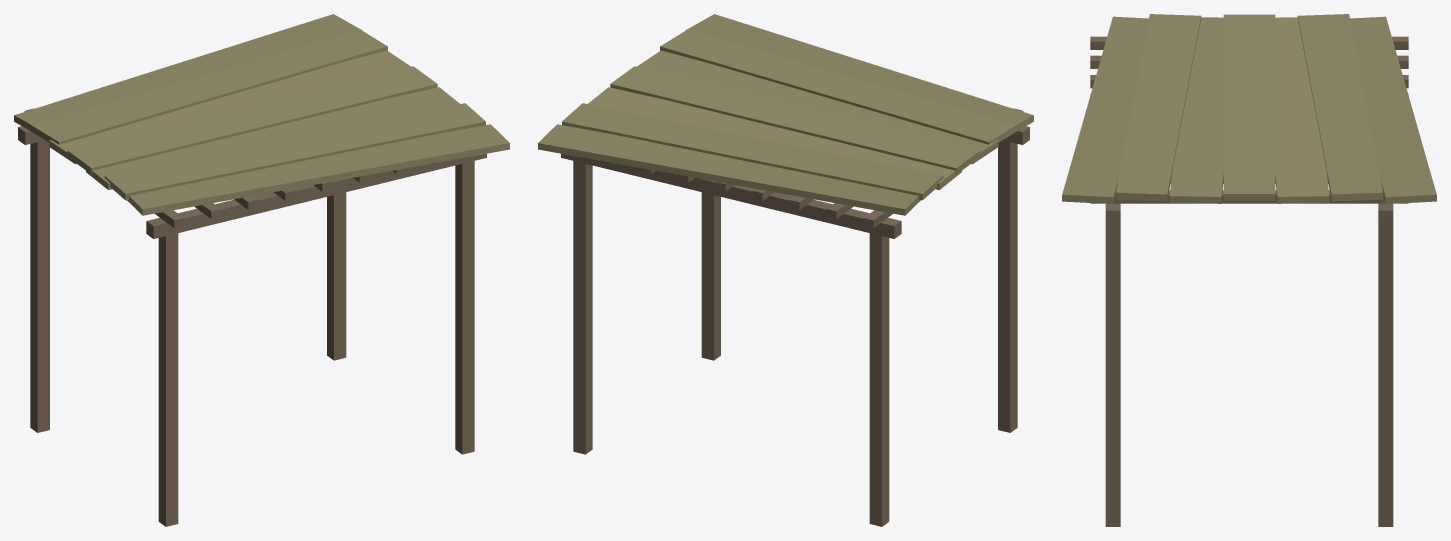
Rendered from adb_shade.glb.
3 renders of one model, left to right at view 1: azimuth 30°, elevation 25°; view 2: azimuth 150°, elevation 25°; view 3: azimuth 270°, elevation 25°, orthographic. The views are drawn at different scales.
Visible parts, largest first — view 1: adb_shade; view 2: adb_shade; view 3: adb_shade.
Part boxes in pixels (x1,y1,x2,y2): adb_shade: (14,14,509,526); adb_shade: (538,14,1033,526); adb_shade: (1062,14,1436,526).
Bounding box in the file's own units: 2.82 × 2.5 × 2.47.
